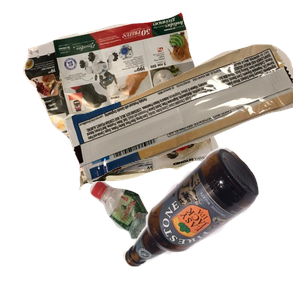glass: (120, 145, 300, 300)
paper: (20, 10, 231, 190)
plastic: (87, 178, 234, 300)
trash: (60, 42, 300, 219)
